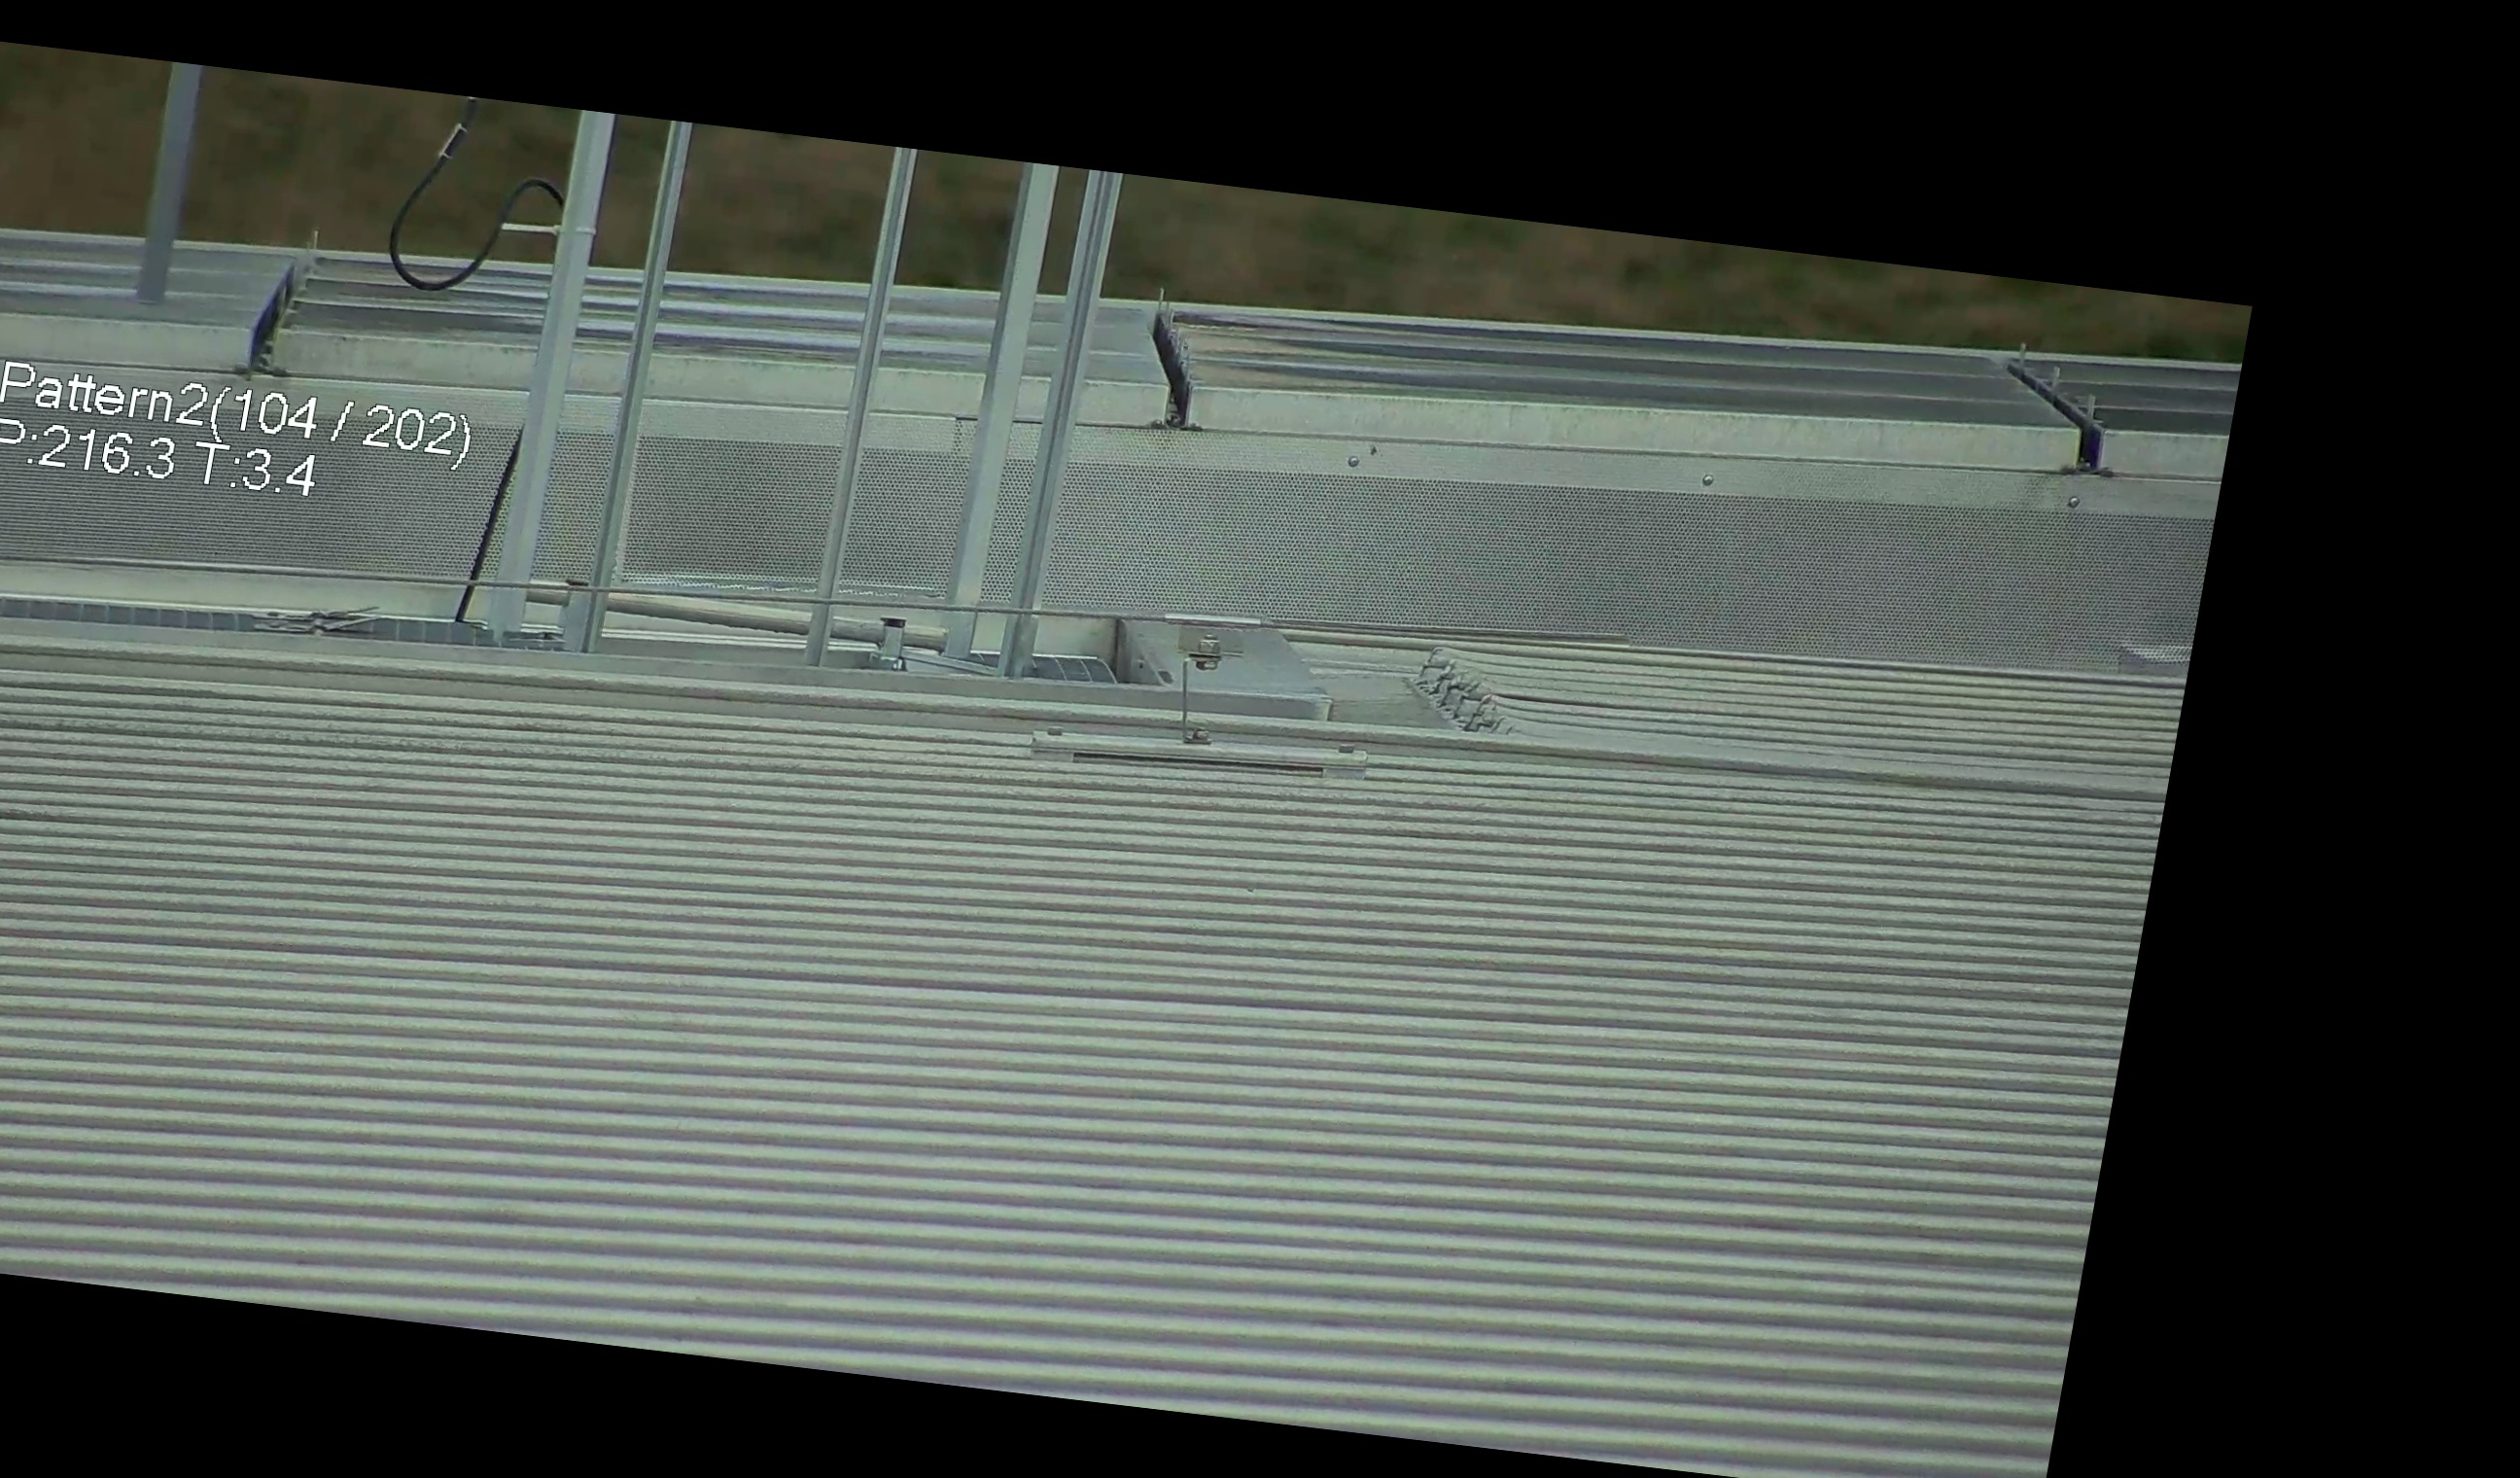Other: (1120, 278, 1231, 433)
